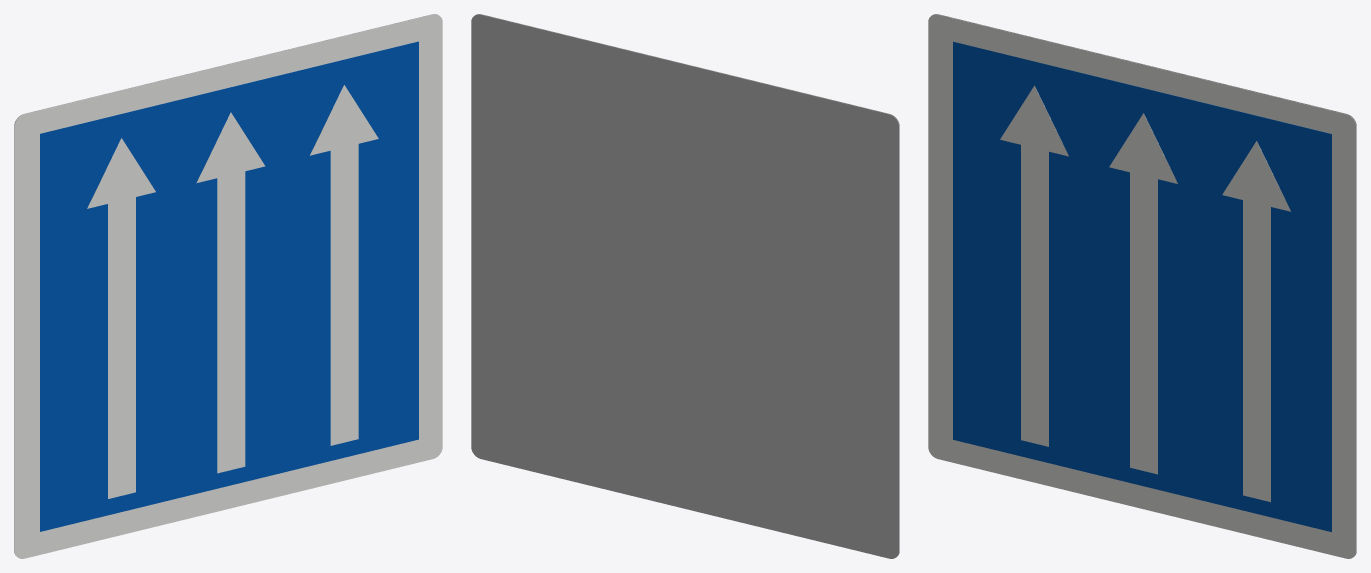
3 renders of one model, left to right at view 1: azimuth 30°, elevation 25°; view 2: azimuth 150°, elevation 25°; view 3: azimuth 330°, elevation 25°, orthographic.
Visible parts, largest first — view 1: C24a_p01, C24a_p00, C24a_p03, C24a_p04, C24a_p02, C24a_dos; view 2: C24a_dos, C24a_p00; view 3: C24a_p01, C24a_p00, C24a_p02, C24a_p03, C24a_p04, C24a_dos.
Part boxes in pixels (x1,y1,x2,y2): C24a_p01: [40, 41, 418, 531]; C24a_p00: [14, 14, 442, 558]; C24a_p03: [196, 112, 265, 473]; C24a_p04: [310, 85, 378, 445]; C24a_p02: [87, 138, 155, 498]; C24a_dos: [14, 14, 437, 555]; C24a_dos: [471, 14, 899, 558]; C24a_p00: [476, 14, 899, 555]; C24a_p01: [953, 41, 1331, 531]; C24a_p00: [928, 14, 1356, 558]; C24a_p02: [1000, 86, 1068, 446]; C24a_p03: [1109, 113, 1177, 474]; C24a_p04: [1222, 141, 1291, 501]; C24a_dos: [933, 14, 1356, 555].
Bounding box in the file's own units: 0.7 × 0.6946 × 0.0035.
